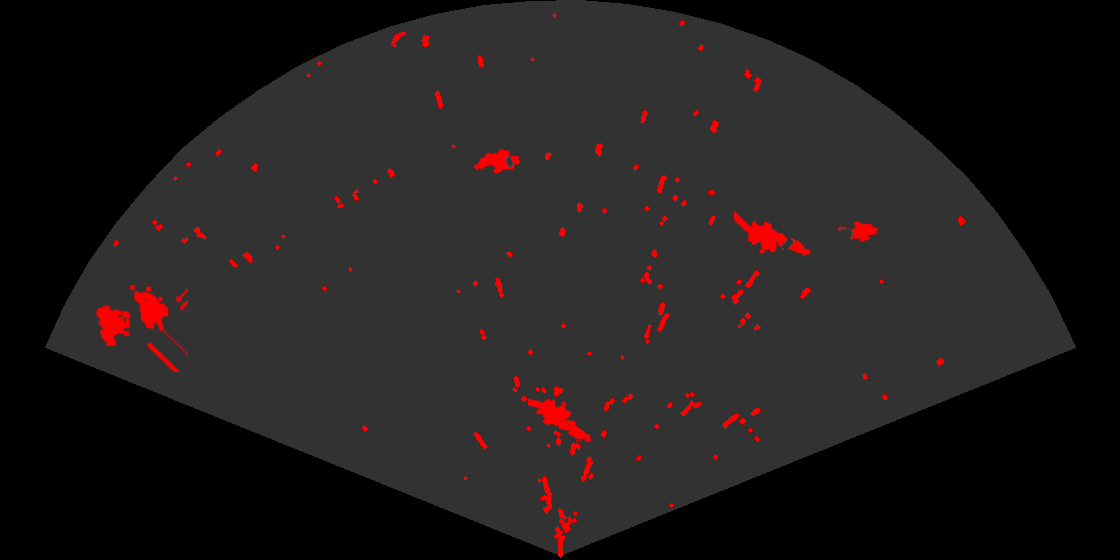AUV: (472, 147, 522, 175), (835, 220, 880, 244)
cage: (94, 283, 188, 372)
frogman: (734, 209, 812, 258), (528, 397, 593, 444)
